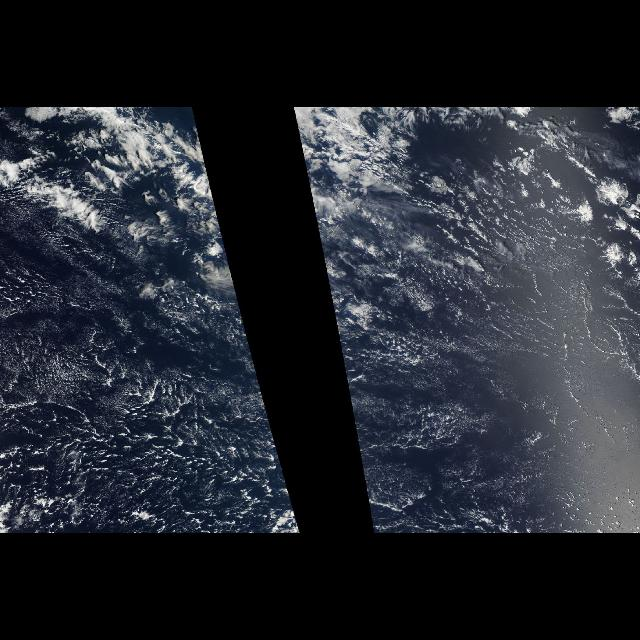Fish: (20, 111, 232, 273), (293, 111, 432, 273)
Gravel: (6, 294, 288, 534)
Sugar: (408, 167, 640, 533), (2, 258, 300, 532)
